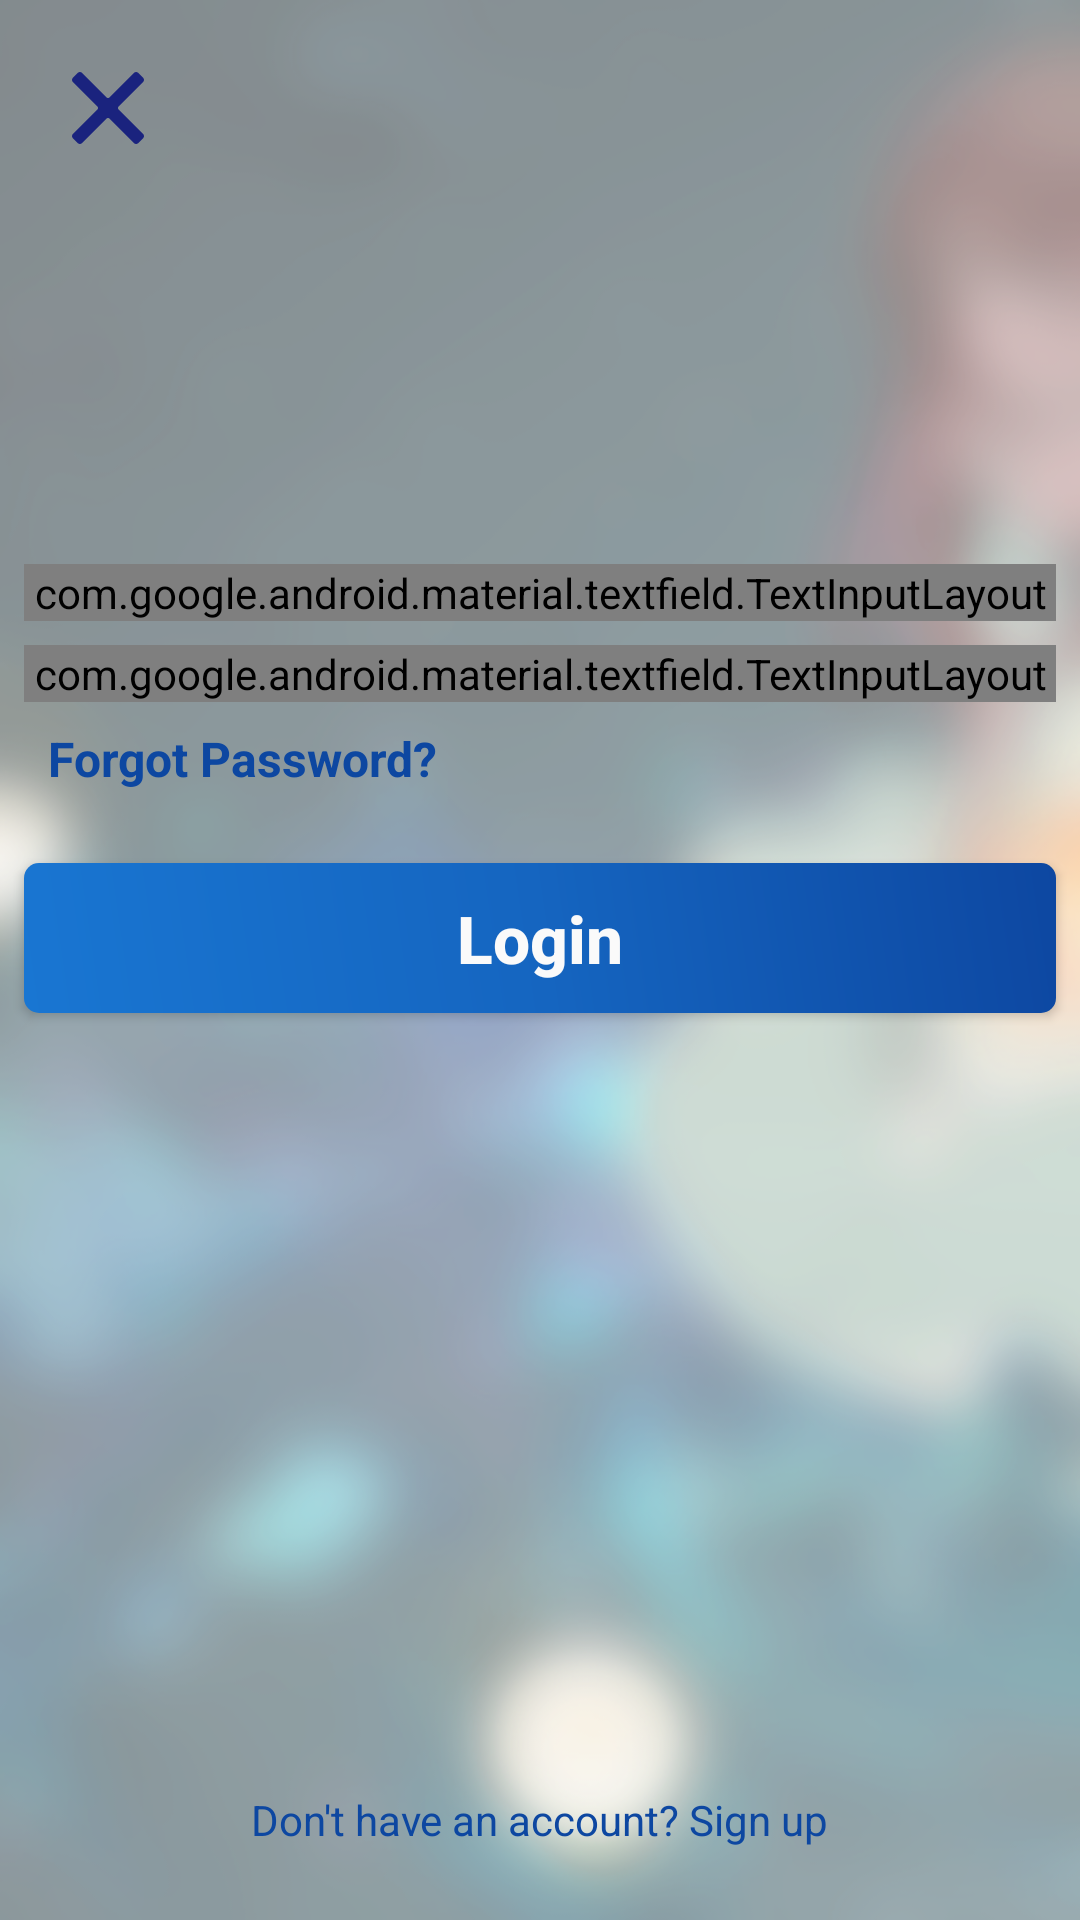

Where icons sit on this 1080×1920 app screen, as (x1, y1, x2, y2):
Cancel: (72, 72, 144, 144)
